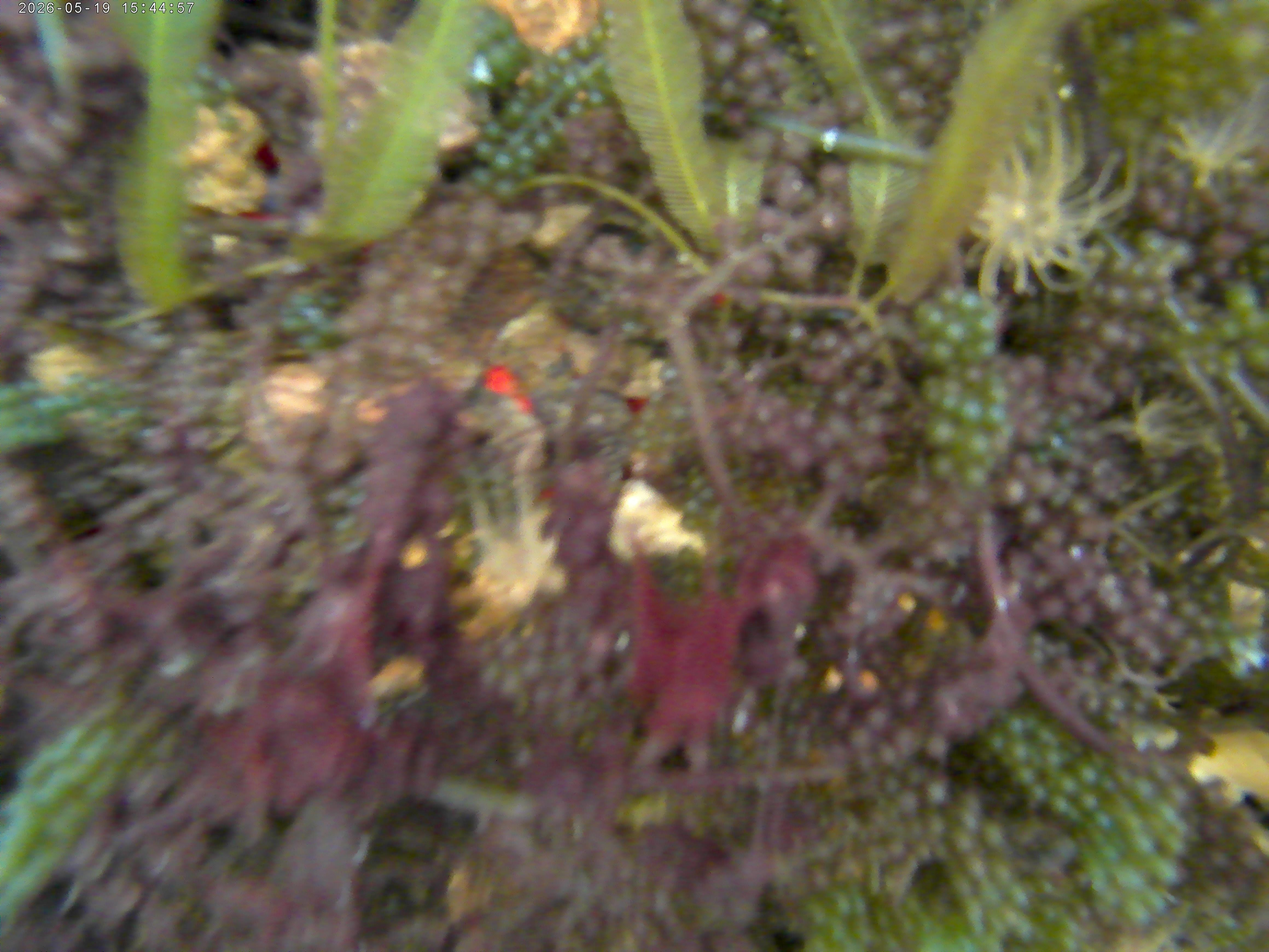Darkening: (788, 249, 821, 281), (815, 202, 841, 238), (755, 207, 785, 236), (1098, 318, 1127, 348), (708, 7, 738, 36), (707, 41, 737, 70), (817, 163, 847, 192), (779, 134, 808, 163), (738, 23, 768, 51), (997, 475, 1024, 506), (766, 423, 795, 451), (753, 398, 780, 426), (894, 728, 921, 755), (1042, 597, 1067, 626), (749, 254, 774, 283), (863, 711, 893, 734), (925, 780, 951, 806), (926, 734, 951, 761), (786, 441, 808, 471), (1053, 371, 1077, 398), (1134, 285, 1158, 312), (735, 62, 762, 86), (1237, 843, 1261, 870), (1044, 556, 1072, 579), (782, 324, 807, 349), (793, 335, 818, 360), (1112, 616, 1136, 642), (1018, 504, 1042, 529), (897, 789, 921, 814), (1107, 285, 1132, 309), (841, 96, 866, 120), (907, 47, 932, 71), (1021, 351, 1044, 377), (816, 327, 839, 353), (874, 25, 900, 48), (1069, 577, 1091, 604), (1033, 473, 1056, 498), (880, 66, 905, 89), (1018, 424, 1041, 448), (1040, 525, 1064, 548), (907, 485, 931, 508), (1142, 188, 1165, 212), (1162, 618, 1185, 641), (1160, 207, 1182, 231), (896, 686, 918, 709), (850, 728, 873, 750), (1072, 496, 1095, 518), (1073, 602, 1094, 626), (1129, 577, 1149, 602), (814, 359, 833, 385), (1125, 332, 1147, 354), (907, 765, 929, 786), (761, 307, 783, 328), (1010, 456, 1031, 477), (830, 710, 851, 731), (1187, 272, 1208, 293), (1140, 606, 1160, 628), (1075, 519, 1095, 540), (1144, 644, 1164, 665), (794, 411, 814, 432), (1212, 258, 1233, 278), (1210, 850, 1231, 870), (963, 364, 981, 387), (1018, 395, 1038, 415), (878, 746, 898, 766), (907, 820, 925, 840), (1067, 401, 1085, 420), (1063, 469, 1081, 488), (888, 842, 907, 860), (1033, 407, 1050, 426), (1096, 520, 1113, 537), (887, 674, 904, 691)
Harvestable: (487, 44, 518, 81), (1227, 281, 1259, 314), (923, 417, 956, 448), (1150, 860, 1181, 888), (1123, 897, 1150, 928), (1118, 865, 1146, 894), (1168, 240, 1195, 269), (1242, 309, 1269, 337), (982, 821, 1008, 849), (1052, 835, 1080, 861), (1139, 231, 1167, 256), (974, 313, 1000, 339), (978, 881, 1003, 908), (1163, 41, 1190, 66), (964, 431, 988, 459), (1247, 342, 1269, 372), (470, 166, 495, 192), (1007, 881, 1029, 910), (964, 855, 989, 880), (959, 400, 983, 426), (991, 860, 1015, 886), (828, 918, 852, 944), (1014, 916, 1038, 942), (1040, 746, 1064, 771), (1041, 901, 1066, 925), (958, 342, 983, 366), (1074, 760, 1097, 786), (491, 152, 514, 178), (1131, 832, 1153, 859), (1220, 318, 1244, 342), (950, 874, 974, 898), (496, 179, 519, 204), (957, 291, 979, 317), (982, 405, 1006, 428), (929, 453, 953, 476), (1161, 832, 1184, 856), (953, 831, 977, 854), (921, 377, 943, 402), (1132, 777, 1157, 799), (1091, 809, 1114, 832), (1076, 790, 1098, 813), (1179, 318, 1202, 340), (65, 723, 88, 745), (1099, 842, 1121, 864), (1229, 658, 1251, 680), (572, 38, 594, 60), (1111, 57, 1133, 79), (1244, 628, 1266, 650), (929, 342, 952, 363), (985, 386, 1008, 407), (963, 466, 986, 487), (1144, 892, 1167, 913), (927, 815, 948, 838), (1226, 634, 1247, 657), (1204, 636, 1225, 659), (282, 314, 306, 334), (299, 332, 323, 352), (1057, 774, 1078, 796), (1221, 347, 1242, 369), (1179, 599, 1201, 620), (195, 62, 217, 83), (1201, 338, 1223, 359), (938, 286, 960, 306), (1008, 741, 1030, 761), (0, 384, 20, 406), (1152, 261, 1174, 281), (834, 896, 854, 918), (945, 323, 966, 343), (1012, 765, 1033, 785), (986, 733, 1007, 753), (1048, 793, 1068, 814), (217, 76, 238, 96), (1156, 328, 1177, 348), (474, 142, 494, 162), (504, 102, 524, 122), (1102, 889, 1122, 909), (914, 301, 933, 322), (1026, 785, 1047, 803), (1005, 716, 1024, 735), (484, 120, 503, 139), (516, 144, 535, 163), (978, 340, 996, 360), (914, 843, 932, 863), (1202, 359, 1221, 377), (1199, 613, 1217, 632), (1037, 878, 1056, 896), (19, 379, 38, 397), (532, 71, 549, 91), (1098, 776, 1116, 794), (535, 133, 553, 151), (555, 47, 573, 65), (677, 548, 695, 566), (941, 394, 958, 413), (517, 162, 536, 179), (562, 73, 579, 92), (927, 313, 943, 333), (1131, 262, 1148, 280), (1036, 727, 1052, 746), (987, 371, 1004, 388), (681, 516, 699, 532), (684, 500, 700, 517), (945, 382, 964, 396), (1256, 243, 1269, 263), (682, 572, 698, 588), (946, 363, 962, 378), (590, 26, 605, 42), (1256, 266, 1269, 284), (568, 103, 583, 118), (588, 91, 603, 106), (1022, 716, 1036, 732), (547, 66, 563, 80), (517, 90, 531, 104), (769, 0, 786, 11), (1068, 808, 1082, 820), (552, 122, 564, 132)
